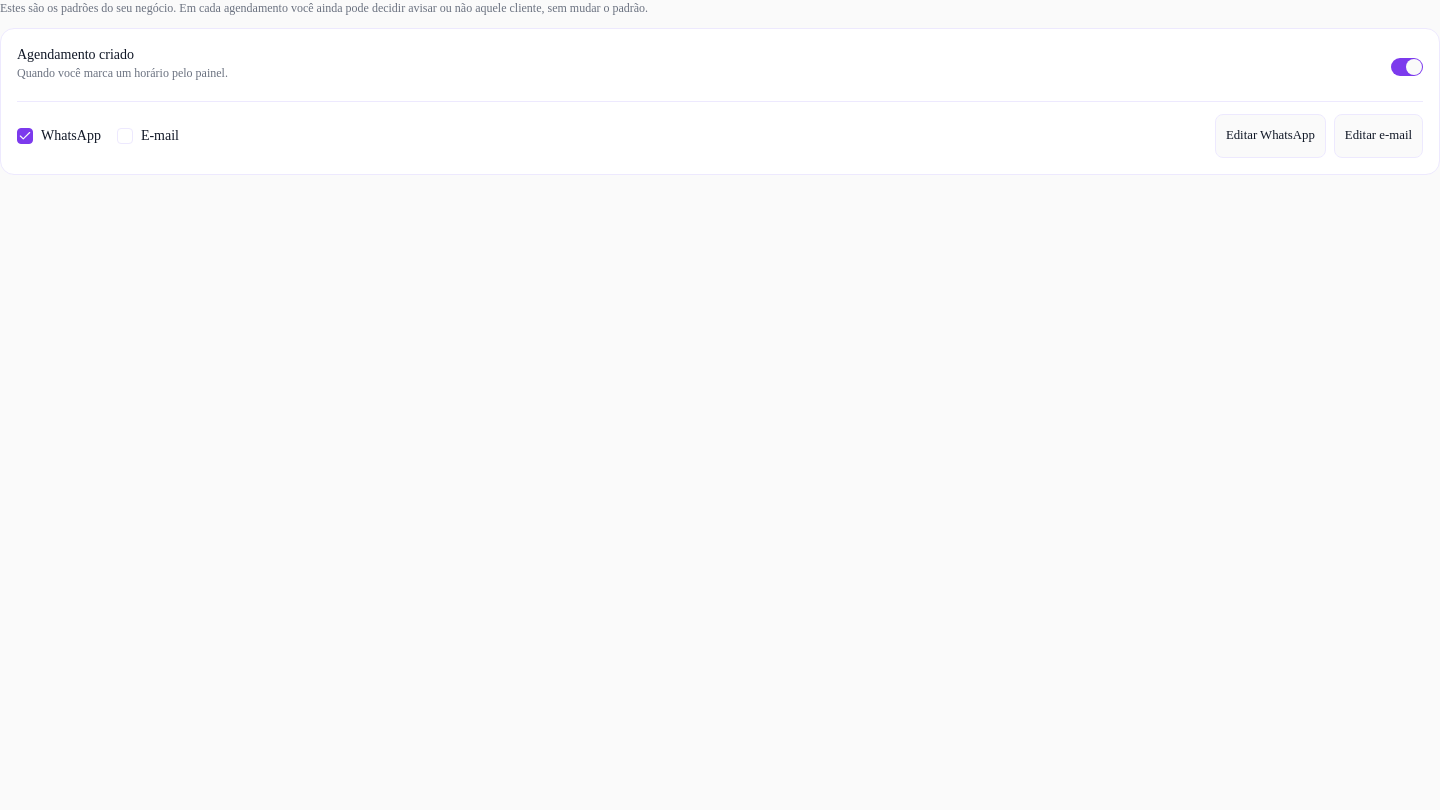
Test case: CustomerMessageList › abre o editor com o template do canal escolhido na matriz
Click the button "Editar WhatsApp" at {"x": 1270, "y": 136}, box [1215,114,1326,158]
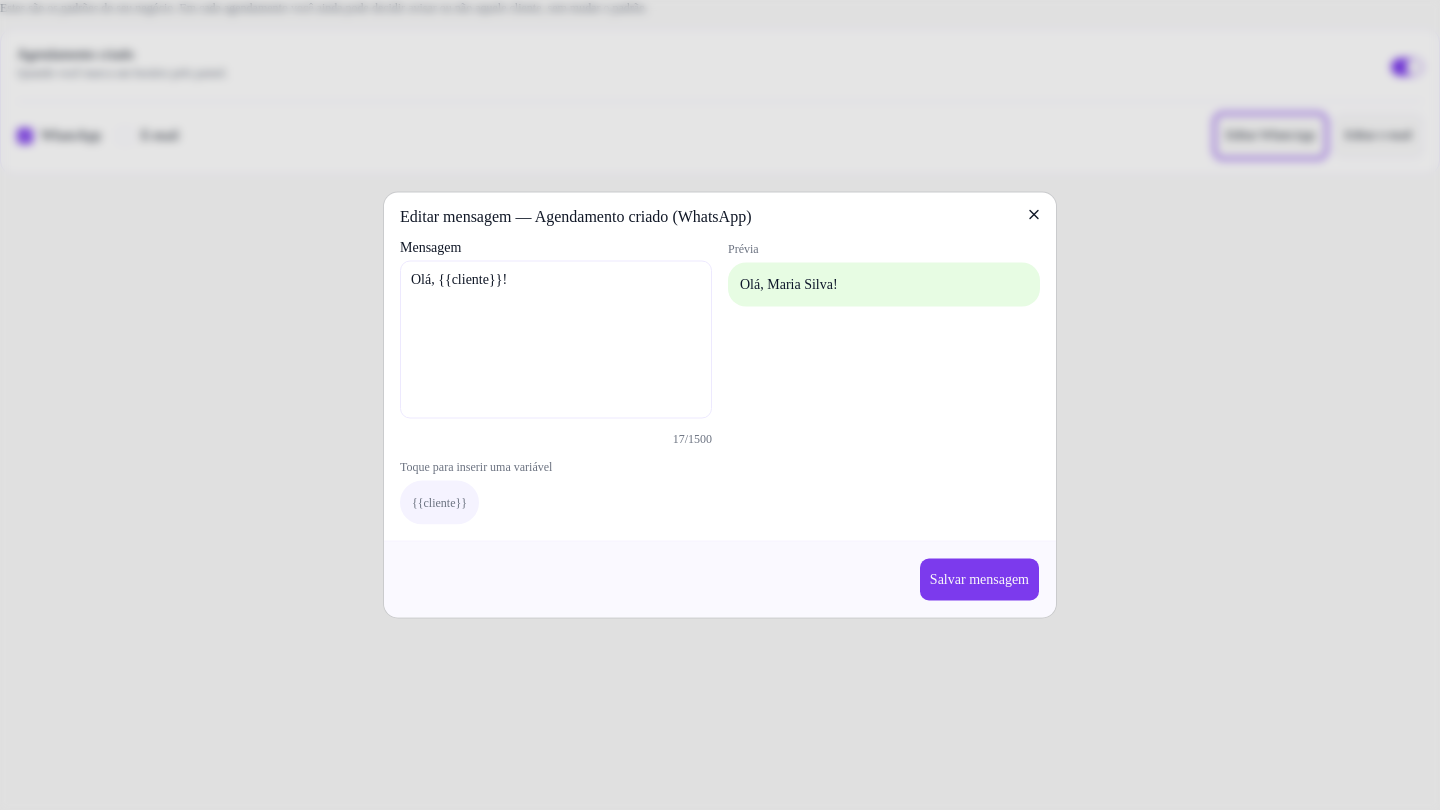
Result: the dialog is shown at [384,192,1056,618]
Result: the text box showing "Olá, {{cliente}}!" is shown at [400,260,712,418]
